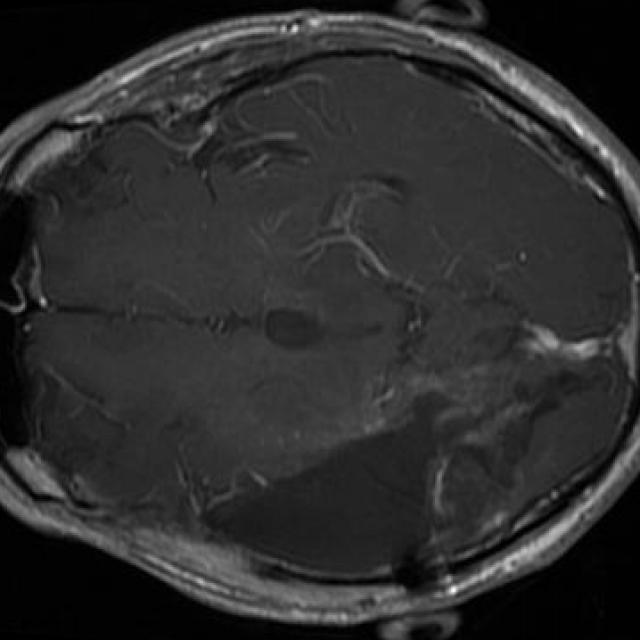glioma: (210, 373, 579, 570)
